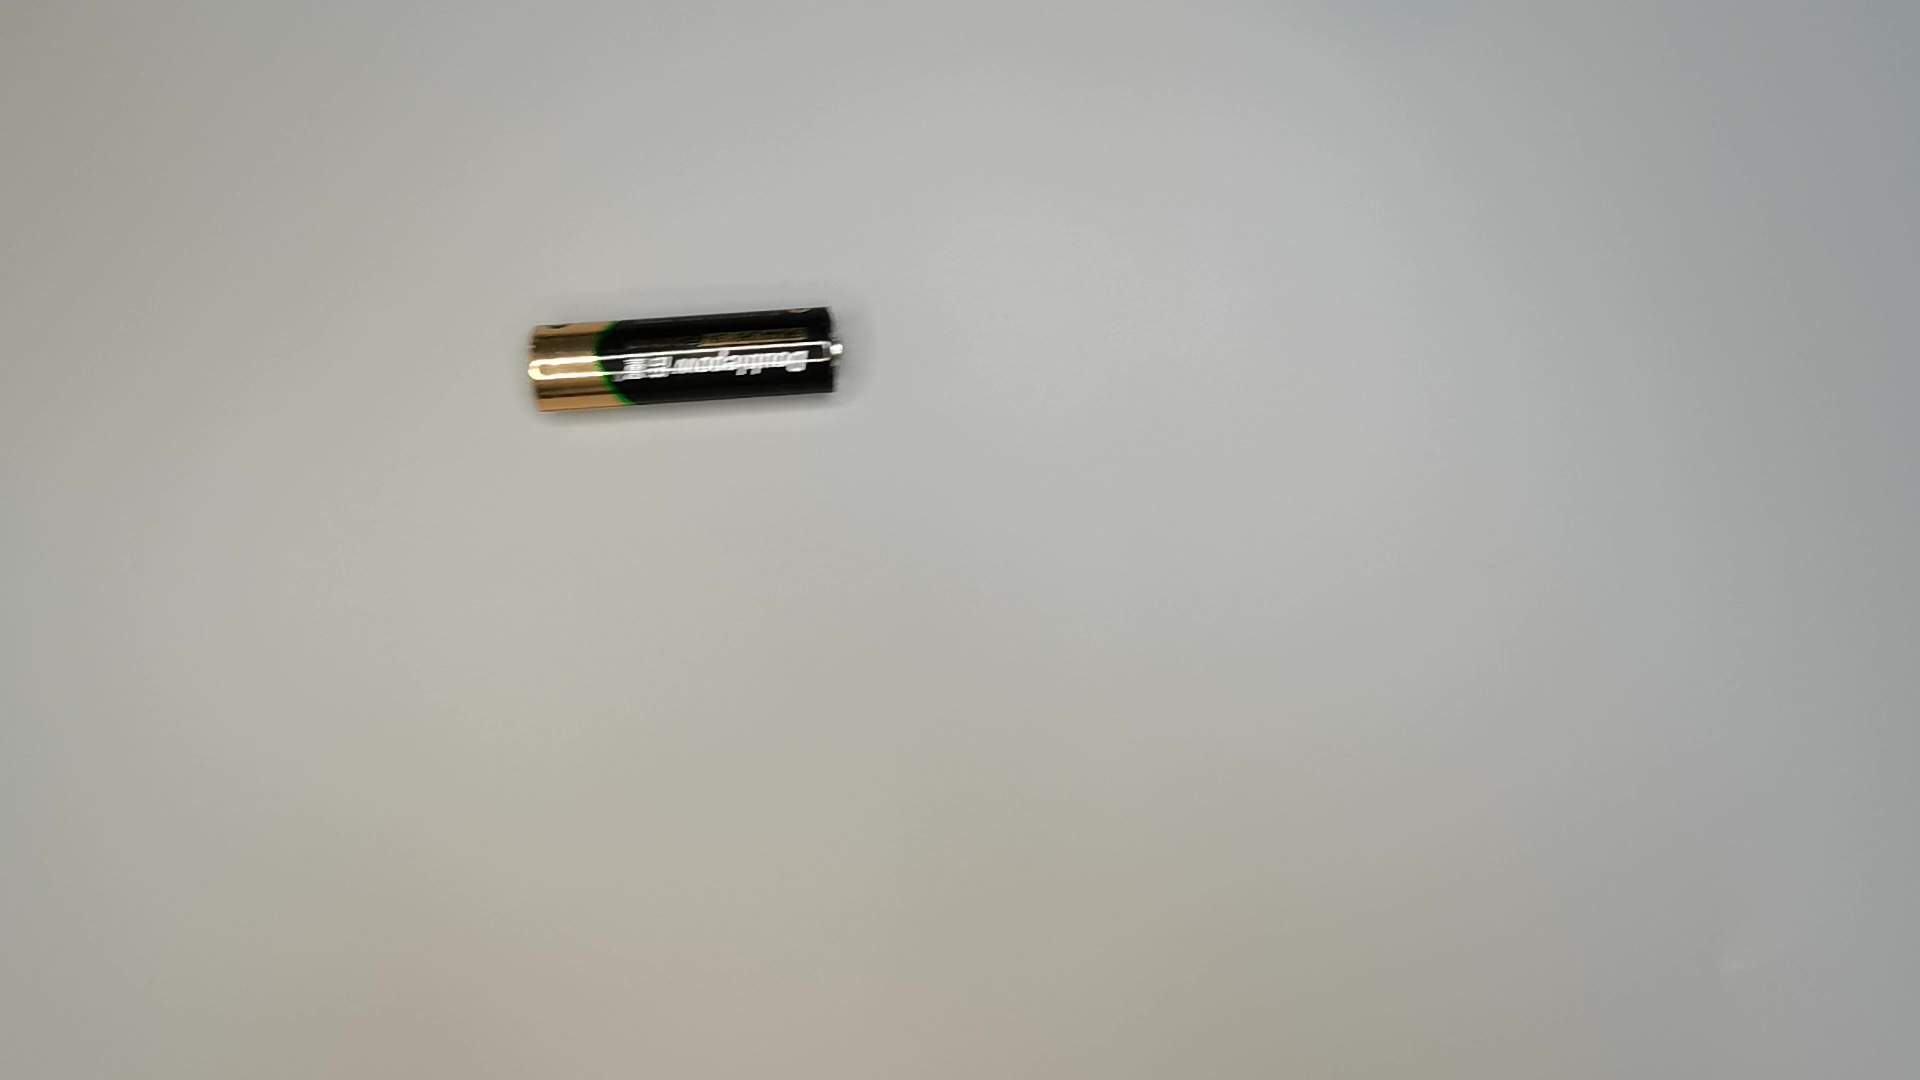battery: (520, 301, 845, 419)
